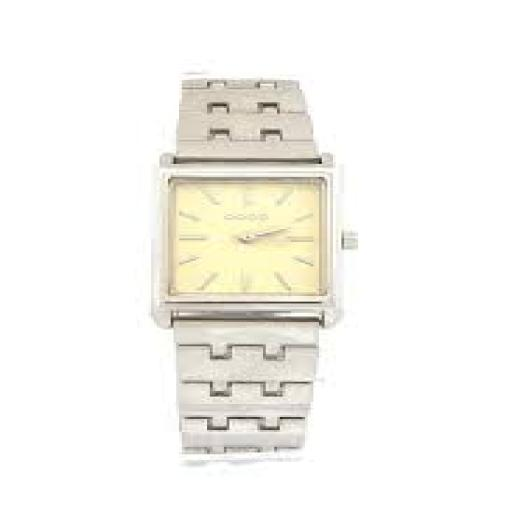KolSaati: (81, 45, 411, 481)
